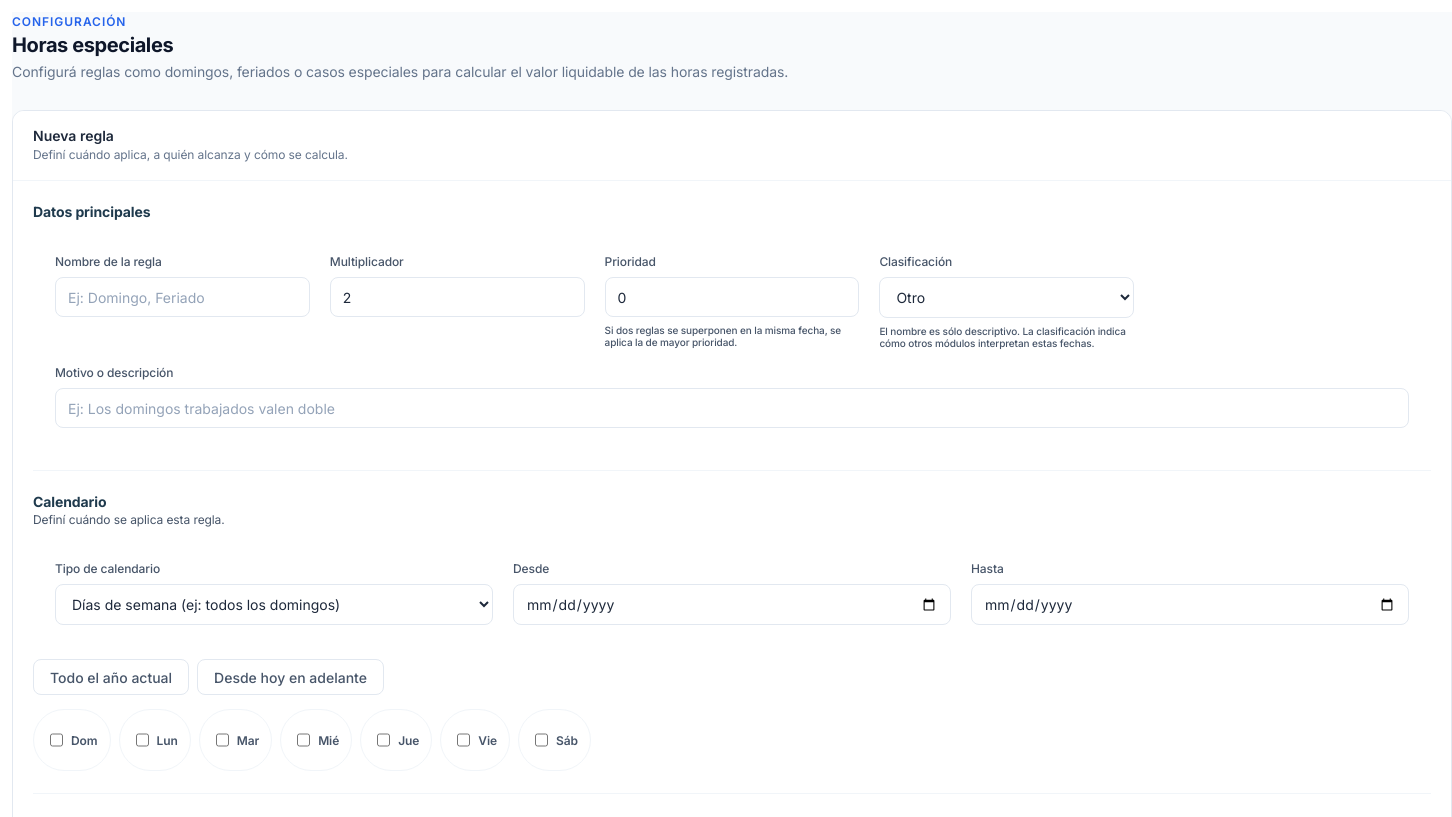
Test: WorkScheduleSettingsPage — Etapa 8B › test 6 — el preset 'Todo el año actual' completa Desde/Hasta para una regla semanal
Click the button "Todo el año actual".
click(111, 677)  # box [33, 659, 189, 695]
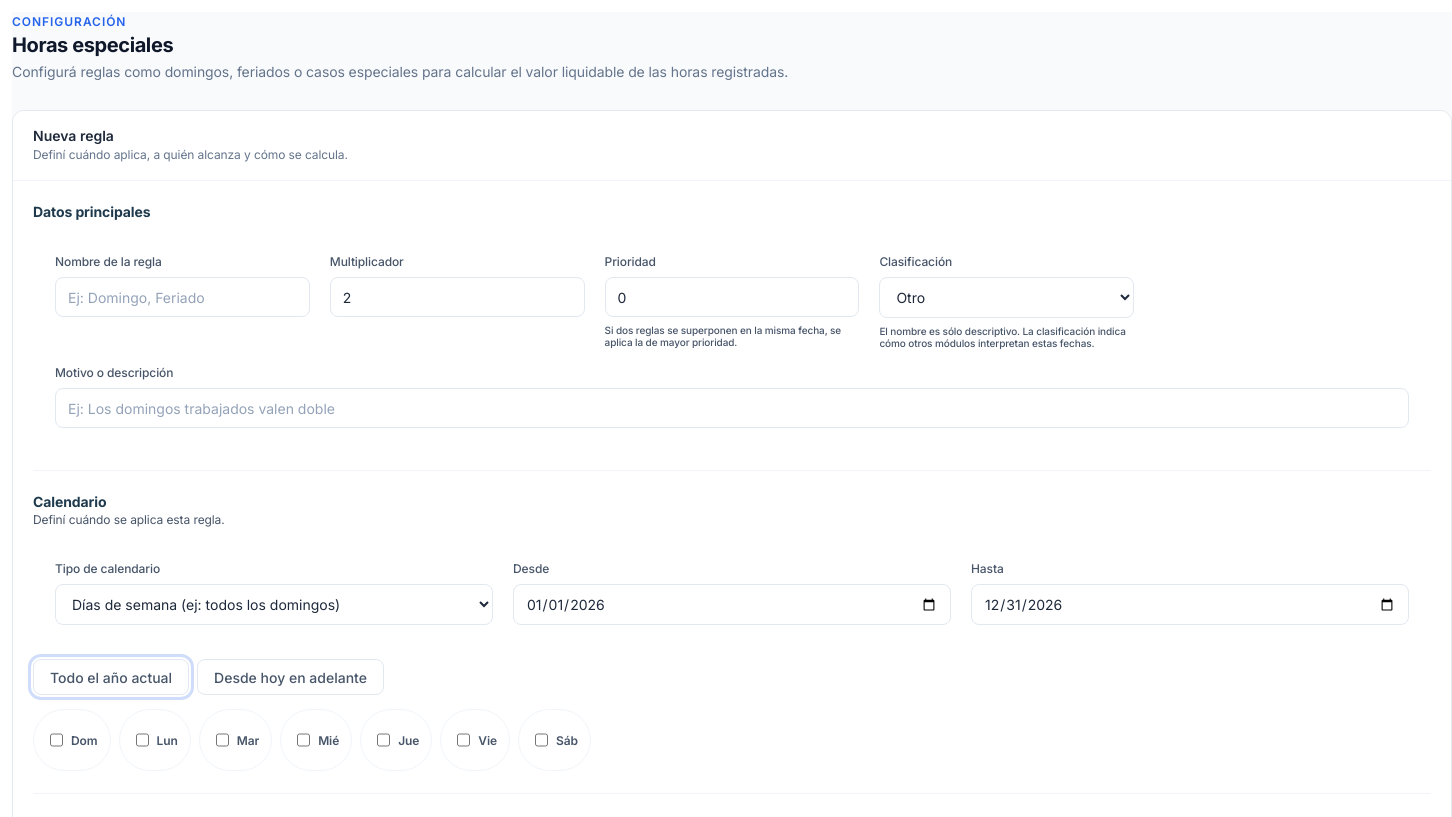
Now the date field labelled "Desde" holds "2026-01-01", box [513, 584, 951, 625]
